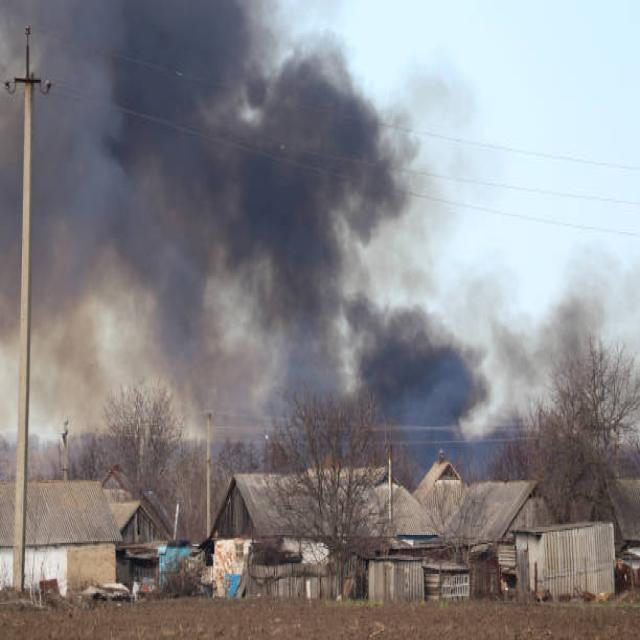Smoke: (0, 8, 494, 477)
